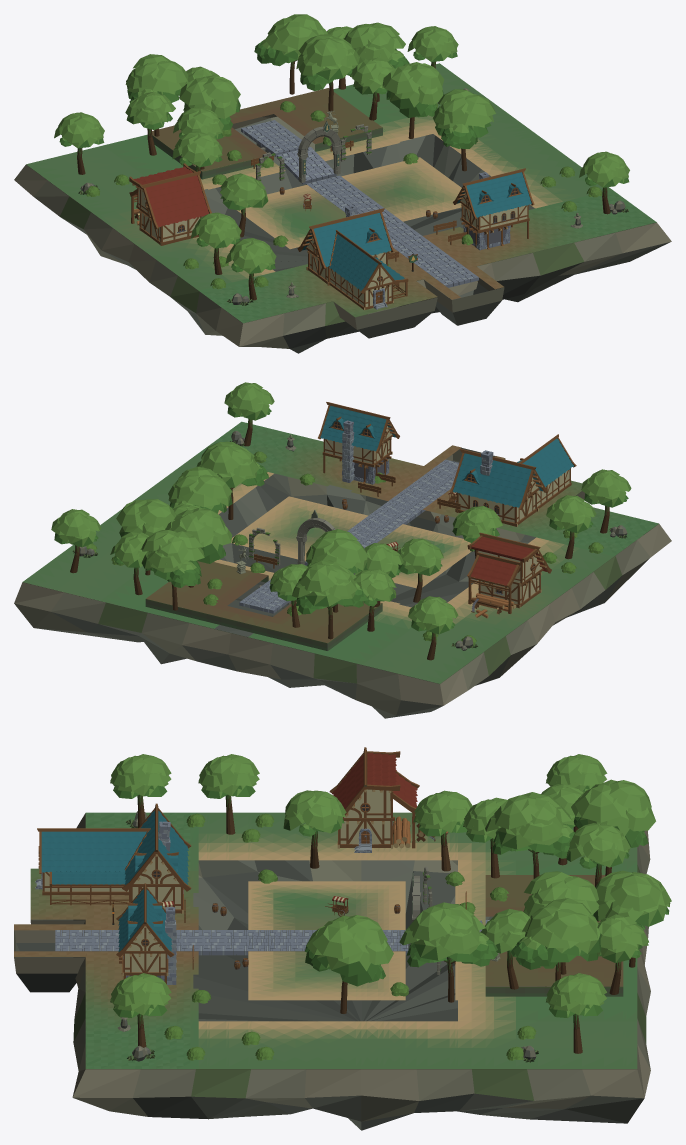
File: woodland-threshold.glb
3 views of the same model, one above another, from view 1: azimuth 30°, elevation 25°; view 2: azimuth 150°, elevation 25°; view 3: azimuth 270°, elevation 25° (orthographic). The views are drawn at different scales.
Parts seen in each view (by area): view 1: Rooted_Foundation, terrain_forest_east.001, terrain_forest_west.001, Caravan_Stable, terrain_arrival_east.001, terrain_arrival_west.001, terrain_boss_floor.001, Woodcutters_Lodge, Gatekeepers_House, Greenwood_Tree_13, Greenwood_Tree_11, Greenwood_Tree_5 (+16 smaller); view 2: Rooted_Foundation, terrain_forest_west.001, terrain_forest_east.001, Caravan_Stable, terrain_boss_floor.001, terrain_arrival_east.001, Woodcutters_Lodge, Gatekeepers_House, terrain_arrival_west.001, Greenwood_Tree_3, Greenwood_Tree_7, terrain_embankments.001 (+17 smaller); view 3: Rooted_Foundation, terrain_forest_east.001, terrain_forest_west.001, Caravan_Stable, terrain_arrival_east.001, Woodcutters_Lodge, terrain_arrival_west.001, Greenwood_Tree_11, Greenwood_Tree_13, Greenwood_Tree_9, Gatekeepers_House, Greenwood_Tree_1 (+18 smaller).
Boxes of the visible parts, left/top/right/bottom form: Rooted_Foundation: left=14, top=114, right=671, bottom=353; terrain_forest_east.001: left=316, top=63, right=614, bottom=238; terrain_forest_west.001: left=26, top=134, right=345, bottom=292; Caravan_Stable: left=297, top=205, right=408, bottom=310; terrain_arrival_east.001: left=426, top=192, right=656, bottom=289; terrain_arrival_west.001: left=202, top=248, right=460, bottom=323; terrain_boss_floor.001: left=152, top=88, right=382, bottom=171; Woodcutters_Lodge: left=129, top=163, right=211, bottom=245; Gatekeepers_House: left=453, top=168, right=534, bottom=250; Greenwood_Tree_13: left=433, top=89, right=495, bottom=171; Greenwood_Tree_11: left=382, top=62, right=444, bottom=138; Greenwood_Tree_5: left=296, top=34, right=359, bottom=111; Rooted_Foundation: left=14, top=447, right=671, bottom=718; terrain_forest_west.001: left=248, top=507, right=616, bottom=683; terrain_forest_east.001: left=23, top=452, right=390, bottom=628; Caravan_Stable: left=449, top=434, right=576, bottom=526; terrain_boss_floor.001: left=146, top=561, right=382, bottom=643; terrain_arrival_east.001: left=200, top=421, right=461, bottom=498; Woodcutters_Lodge: left=467, top=532, right=551, bottom=618; Gatekeepers_House: left=318, top=402, right=399, bottom=484; terrain_arrival_west.001: left=426, top=456, right=658, bottom=553; Greenwood_Tree_3: left=292, top=560, right=368, bottom=639; Greenwood_Tree_7: left=140, top=530, right=204, bottom=610; terrain_embankments.001: left=22, top=524, right=658, bottom=683; Rooted_Foundation: left=14, top=813, right=650, bottom=1130; terrain_forest_east.001: left=190, top=951, right=637, bottom=1068; terrain_forest_west.001: left=190, top=812, right=637, bottom=929; Caravan_Stable: left=35, top=803, right=191, bottom=913; terrain_arrival_east.001: left=14, top=951, right=190, bottom=1068; Woodcutters_Lodge: left=329, top=747, right=448, bottom=852; terrain_arrival_west.001: left=14, top=812, right=190, bottom=930; Greenwood_Tree_11: left=399, top=902, right=497, bottom=1002; Greenwood_Tree_13: left=305, top=915, right=393, bottom=1013; Greenwood_Tree_9: left=511, top=898, right=601, bottom=981; Gatekeepers_House: left=116, top=883, right=176, bottom=984; Greenwood_Tree_1: left=485, top=792, right=574, bottom=878.
Bounding box in the file's own units: 231 × 78.99 × 239.
